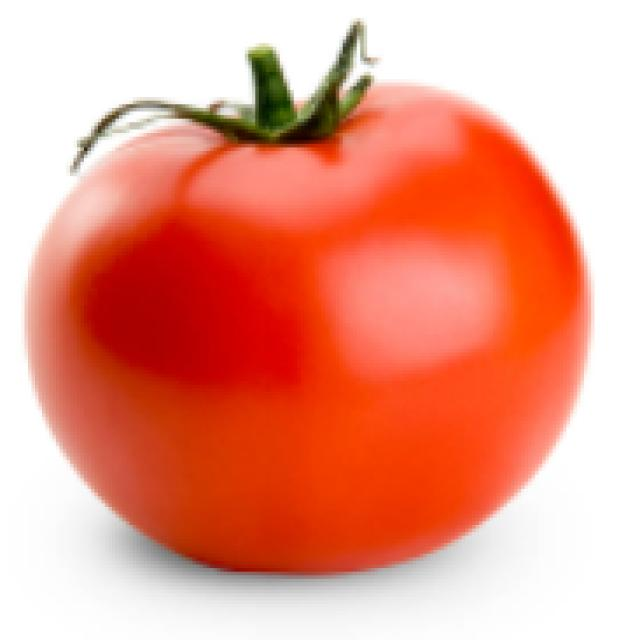Tomato: (30, 62, 598, 568)
